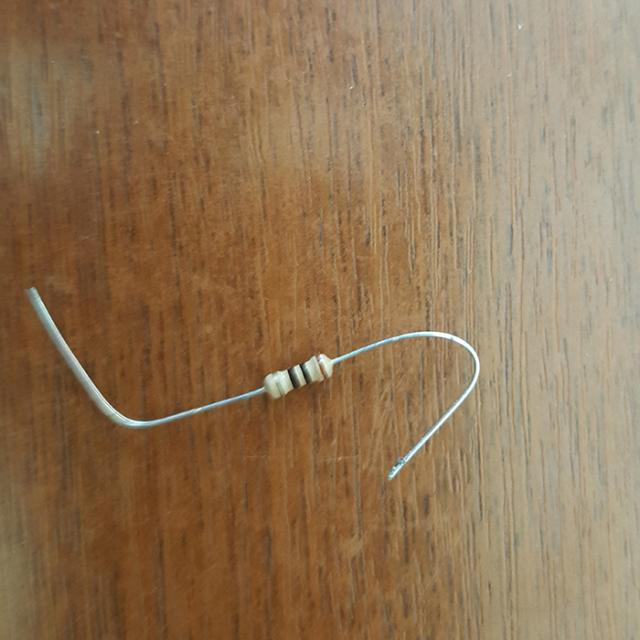black: (299, 363, 310, 385), (286, 368, 297, 389)
brown: (315, 355, 325, 379)
gold: (272, 373, 283, 396)
resistor: (247, 340, 345, 416)
